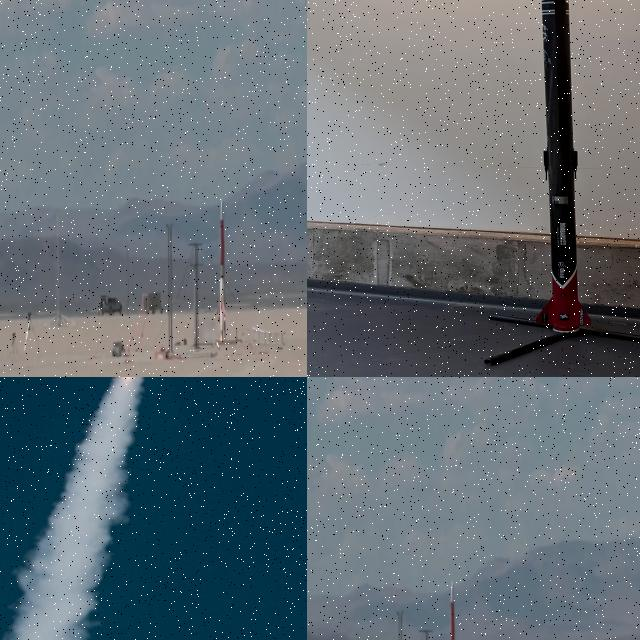Rocket: (536, 0, 591, 333), (217, 198, 226, 338), (448, 581, 458, 640)
